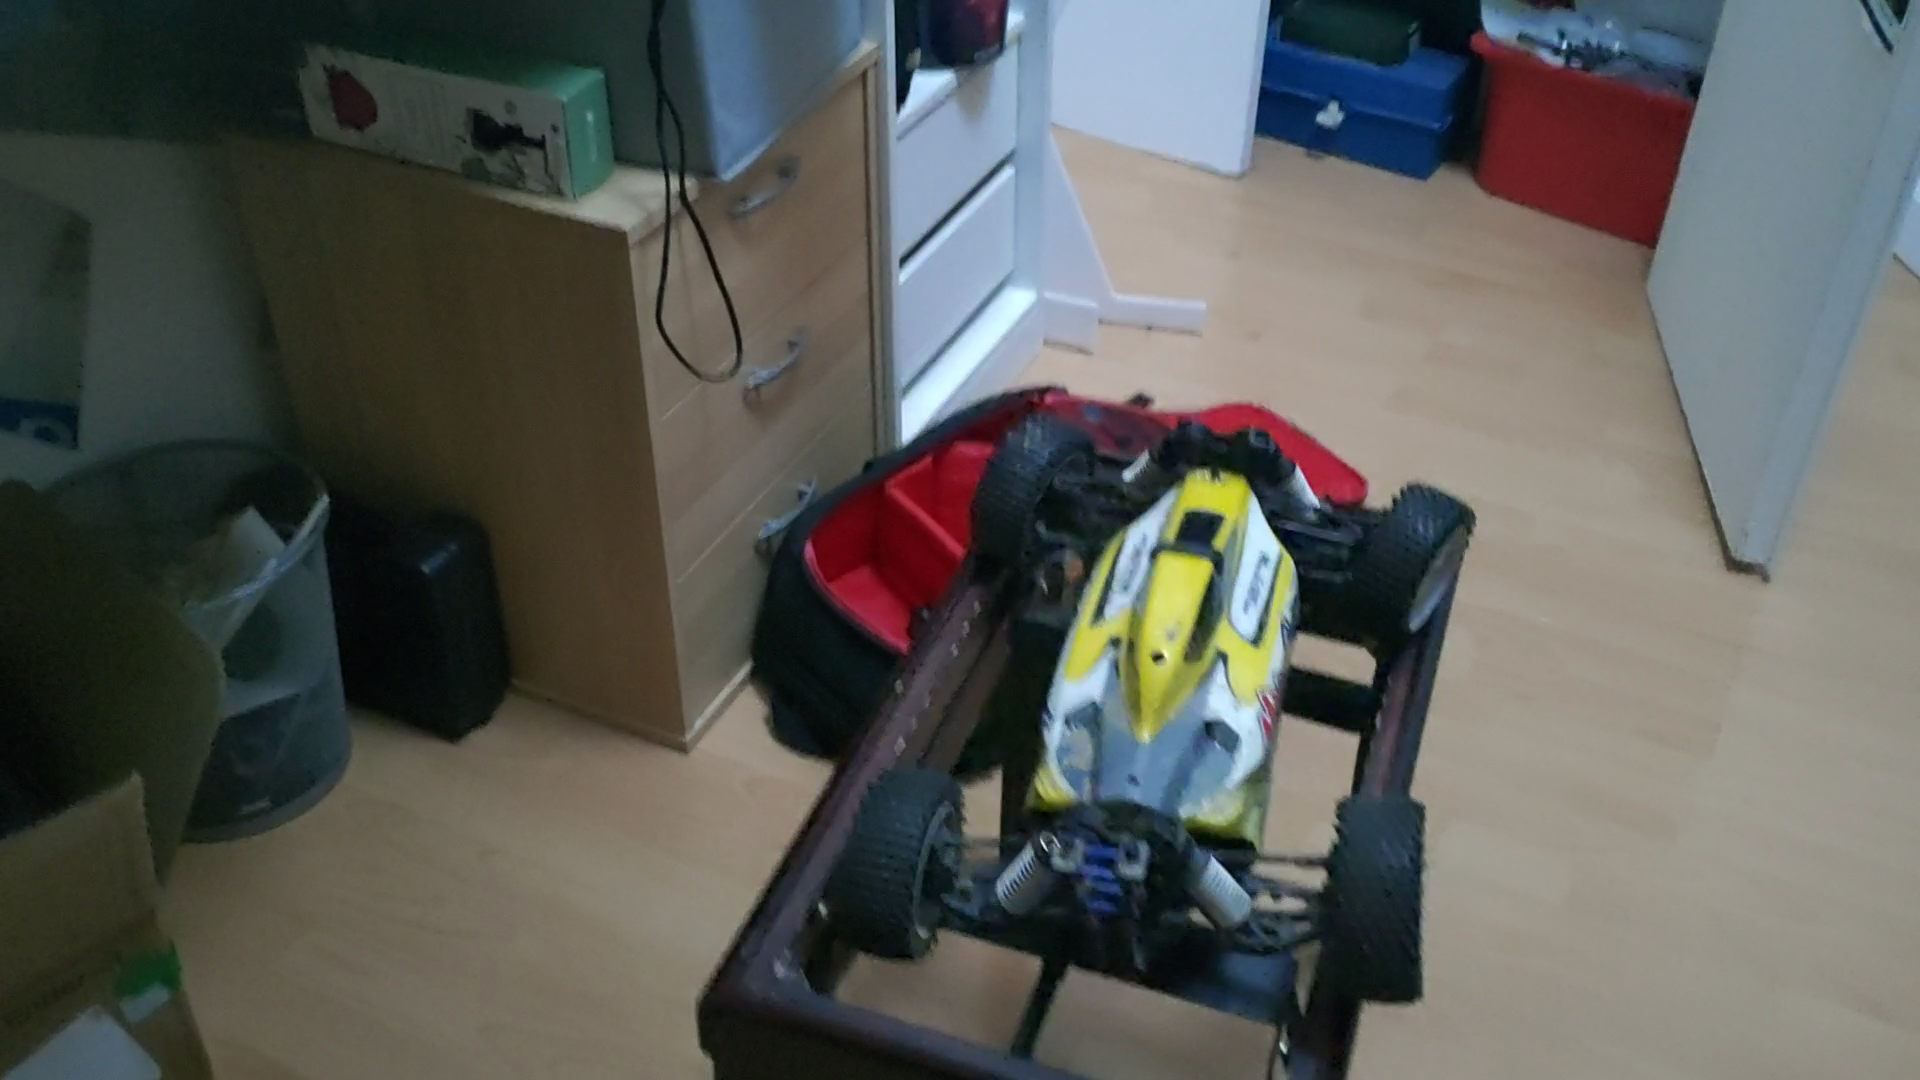buggy: (835, 409, 1477, 1017)
